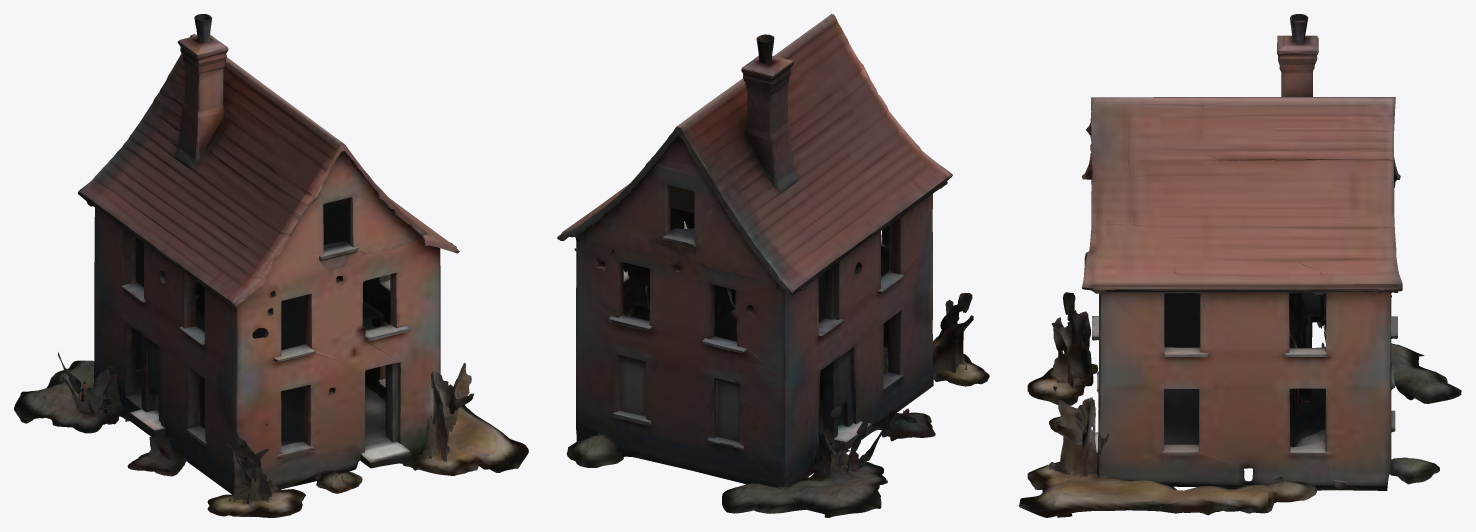
File: prop_house.glb
3 views of the same model, side by side, from view 1: azimuth 30°, elevation 25°; view 2: azimuth 150°, elevation 25°; view 3: azimuth 270°, elevation 25° (orthographic). The views are drawn at different scales.
Visible parts, largest first — view 1: world; view 2: world; view 3: world.
Boxes of the visible parts, x1,y1,x2,y2 form: world: (14, 14, 528, 517); world: (557, 14, 989, 517); world: (1018, 14, 1461, 517).
Size of the model in its own units: 0.8851 by 0.97 by 0.9528.
1 material, 1 textured.
